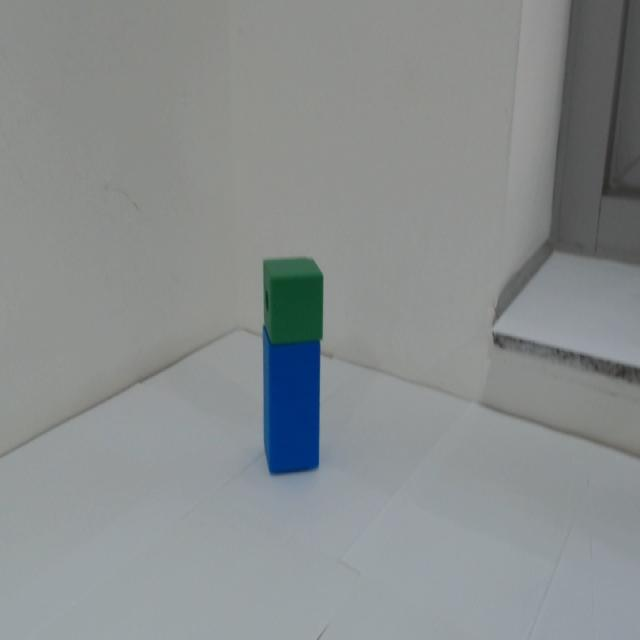cube: (255, 257, 337, 346)
